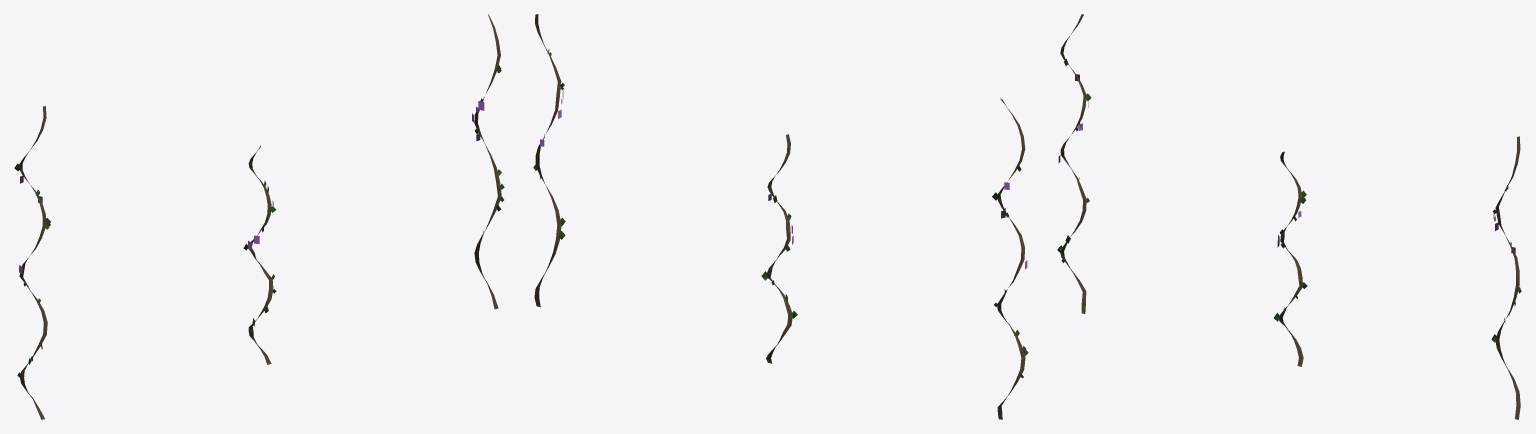
File: Vine_Wisteria.glb
3 views of the same model, side by side, from view 1: azimuth 30°, elevation 25°; view 2: azimuth 150°, elevation 25°; view 3: azimuth 330°, elevation 25° (orthographic). The views are drawn at different scales.
Parts seen in each view (by area): view 1: Wisteria_A, Wisteria_C, Wisteria_B; view 2: Wisteria_A, Wisteria_C, Wisteria_B; view 3: Wisteria_A, Wisteria_C, Wisteria_B.
Boxes of the visible parts, left/top/right/bottom form: Wisteria_A: left=14, top=106, right=50, bottom=419; Wisteria_C: left=472, top=14, right=504, bottom=309; Wisteria_B: left=243, top=146, right=276, bottom=364; Wisteria_A: left=992, top=98, right=1028, bottom=419; Wisteria_C: left=533, top=14, right=565, bottom=307; Wisteria_B: left=761, top=134, right=797, bottom=363; Wisteria_A: left=1057, top=14, right=1091, bottom=313; Wisteria_C: left=1491, top=136, right=1521, bottom=419; Wisteria_B: left=1274, top=151, right=1307, bottom=366.
Size of the model in its own units: 6.38 by 3.96 by 0.3977.
